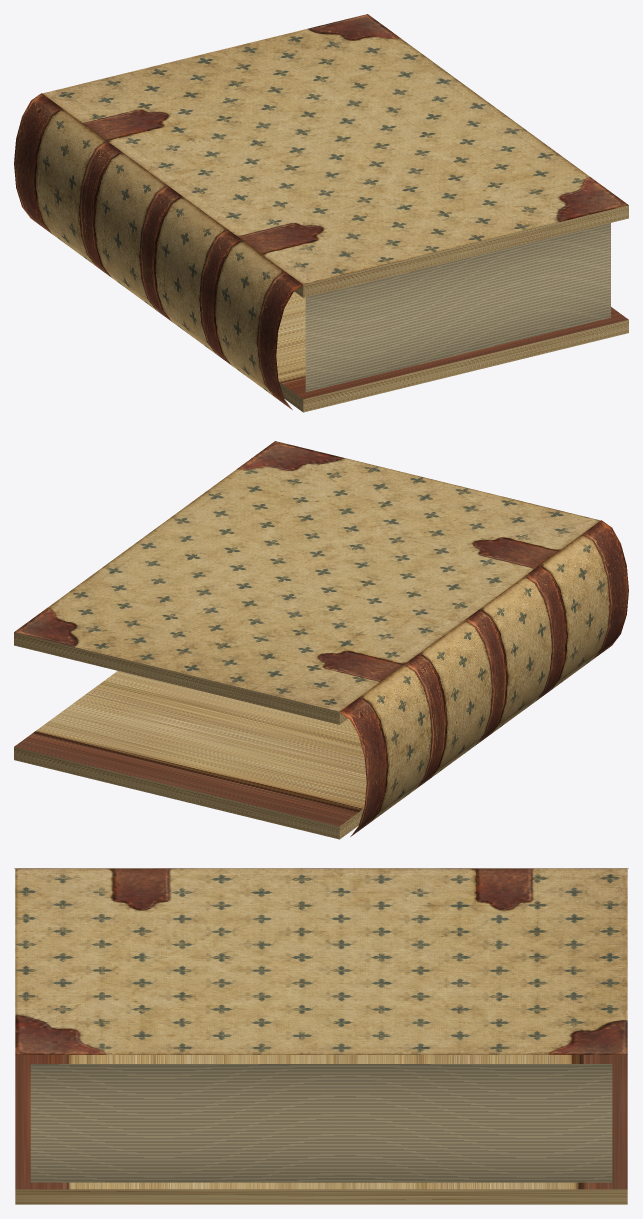
Rendered from item_book1.glb.
The picture shows the model from 3 angles, top to bottom: view 1: azimuth 30°, elevation 25°; view 2: azimuth 150°, elevation 25°; view 3: azimuth 270°, elevation 25°; orthographic projection. The views are drawn at different scales.
Visible parts, largest first — view 1: book1; view 2: book1; view 3: book1.
Part boxes in pixels (box(x1,y1,x2,y2)): book1: box(14, 14, 628, 412); book1: box(14, 441, 628, 839); book1: box(14, 868, 628, 1204).
Size of the model in its own units: 0.7808 by 0.27 by 1.
1 material, 1 textured.
